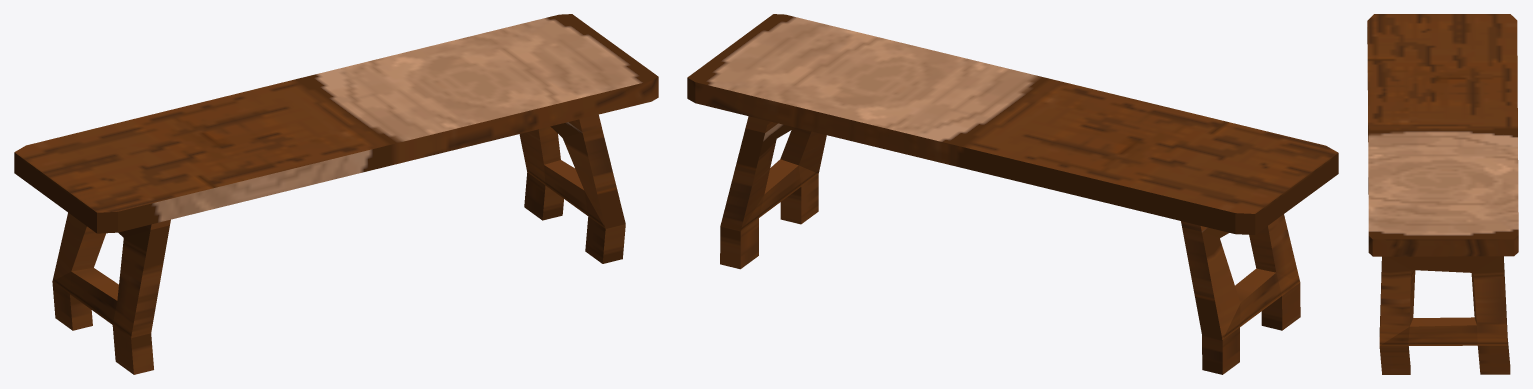
Rendered from Banco.fbx.
3 views of the same model, side by side, from view 1: azimuth 30°, elevation 25°; view 2: azimuth 150°, elevation 25°; view 3: azimuth 270°, elevation 25° (orthographic). The views are drawn at different scales.
Parts seen in each view (by area): view 1: Bench_Wood; view 2: Bench_Wood; view 3: Bench_Wood.
Boxes of the visible parts, left/top/right/bottom form: Bench_Wood: left=14, top=14, right=658, bottom=374; Bench_Wood: left=687, top=14, right=1338, bottom=374; Bench_Wood: left=1367, top=14, right=1518, bottom=374.
Size of the model in its own units: 689 by 211 by 195.
